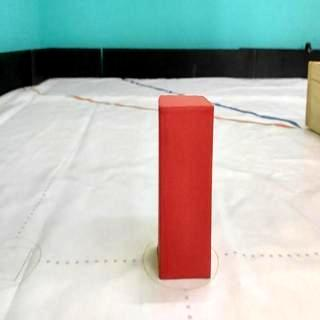redbox: (160, 96, 211, 278)
